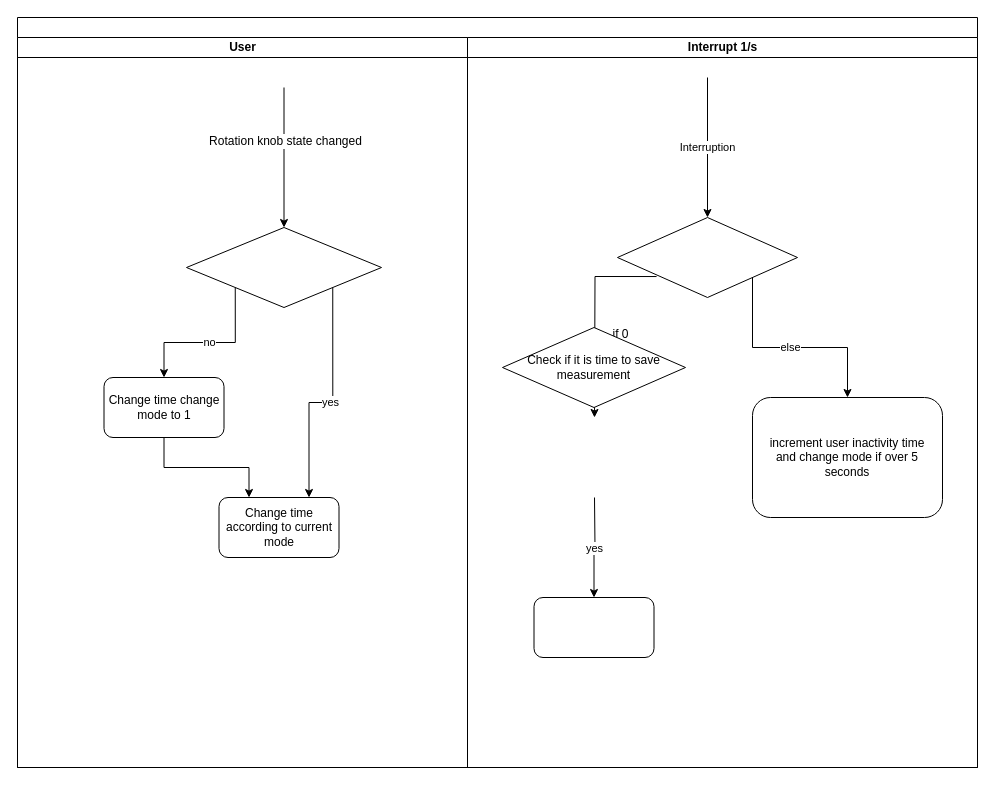
This 995x785 diagram has some shape labels left out. Each missing label, with the centre of its shape:
"Check if in time change mode" goes at pixel 284 267.
"Check time_change_mode" goes at pixel 707 257.
"save measurement" goes at pixel 593 627.
